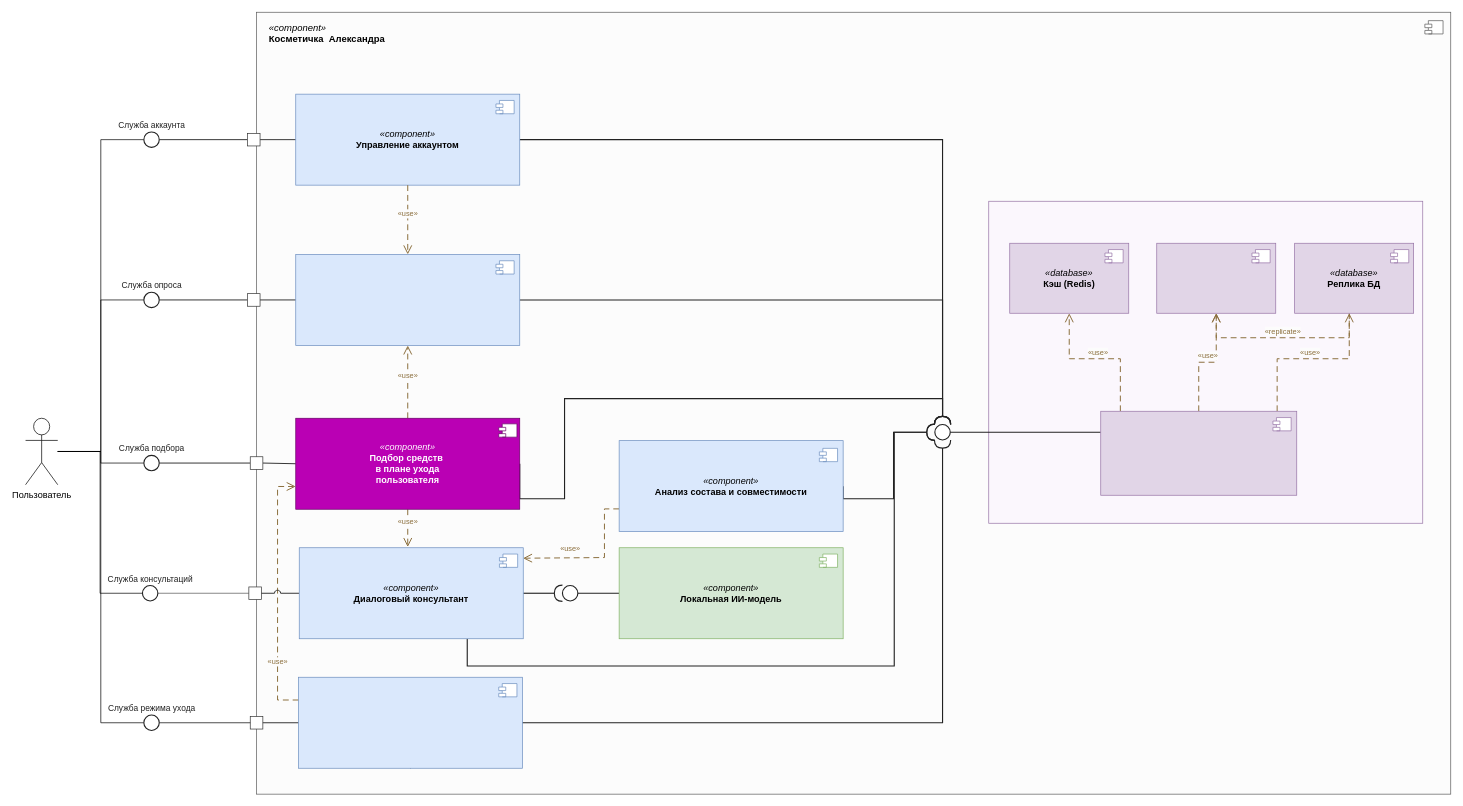
This 1463x806 diagram has some shape labels left out. The box of each missing label's shape, as (x1, y1, x2, y2) in pixels:
«component» Адаптер данных: (1100, 411, 1297, 495)
«component» Анкетирование пользователя: (295, 254, 520, 345)
«component» Управление режимом ухода: (298, 677, 523, 768)
«database» Основная БД: (1156, 243, 1276, 313)
«subsystem» Слой хранения данных: (988, 201, 1423, 523)
Данные: (934, 424, 950, 440)
Сгенерированный ответ: (562, 585, 578, 601)
